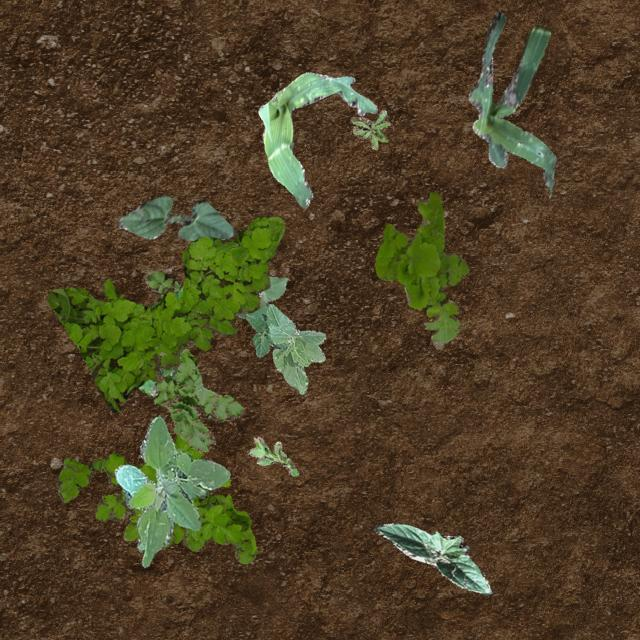crop: (113, 414, 230, 566), (256, 70, 376, 206), (468, 11, 556, 190), (372, 522, 490, 594), (117, 194, 236, 240), (266, 302, 324, 393), (242, 298, 288, 356), (234, 276, 286, 316)
weed: (46, 216, 284, 412), (55, 432, 256, 562), (138, 268, 244, 452), (374, 190, 468, 342), (138, 286, 182, 394), (248, 436, 298, 476), (350, 108, 390, 148)
